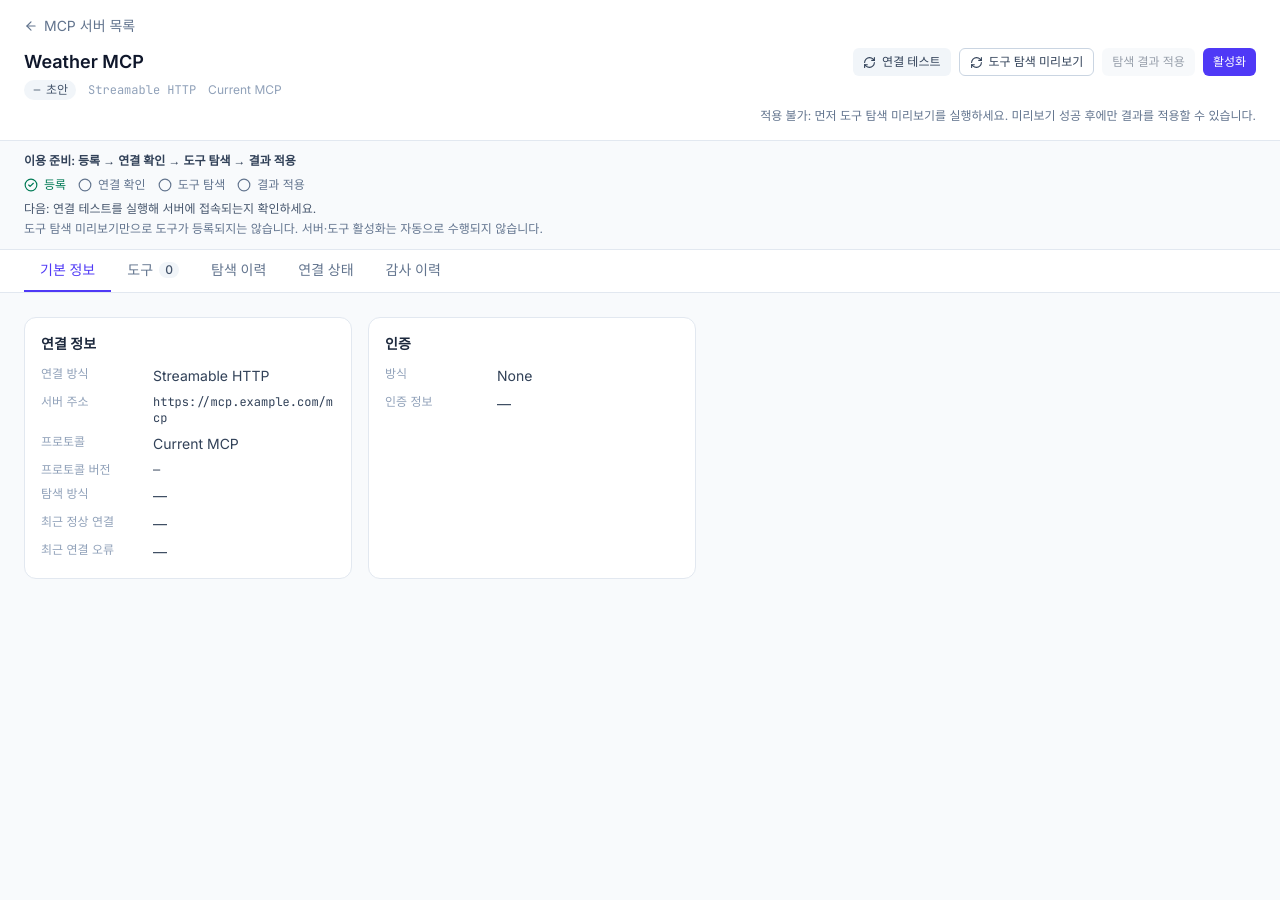
it: MCPServerDetail beginner setup and empty guidance › shows Korean next action after connection success without auto-apply
The image size is (1280, 900).
Check: the heading "Weather MCP" is shown, box top-left (24, 51), bottom-right (144, 72)
Click the button "연결 테스트".
click(902, 62)  # box top-left (853, 48), bottom-right (950, 76)
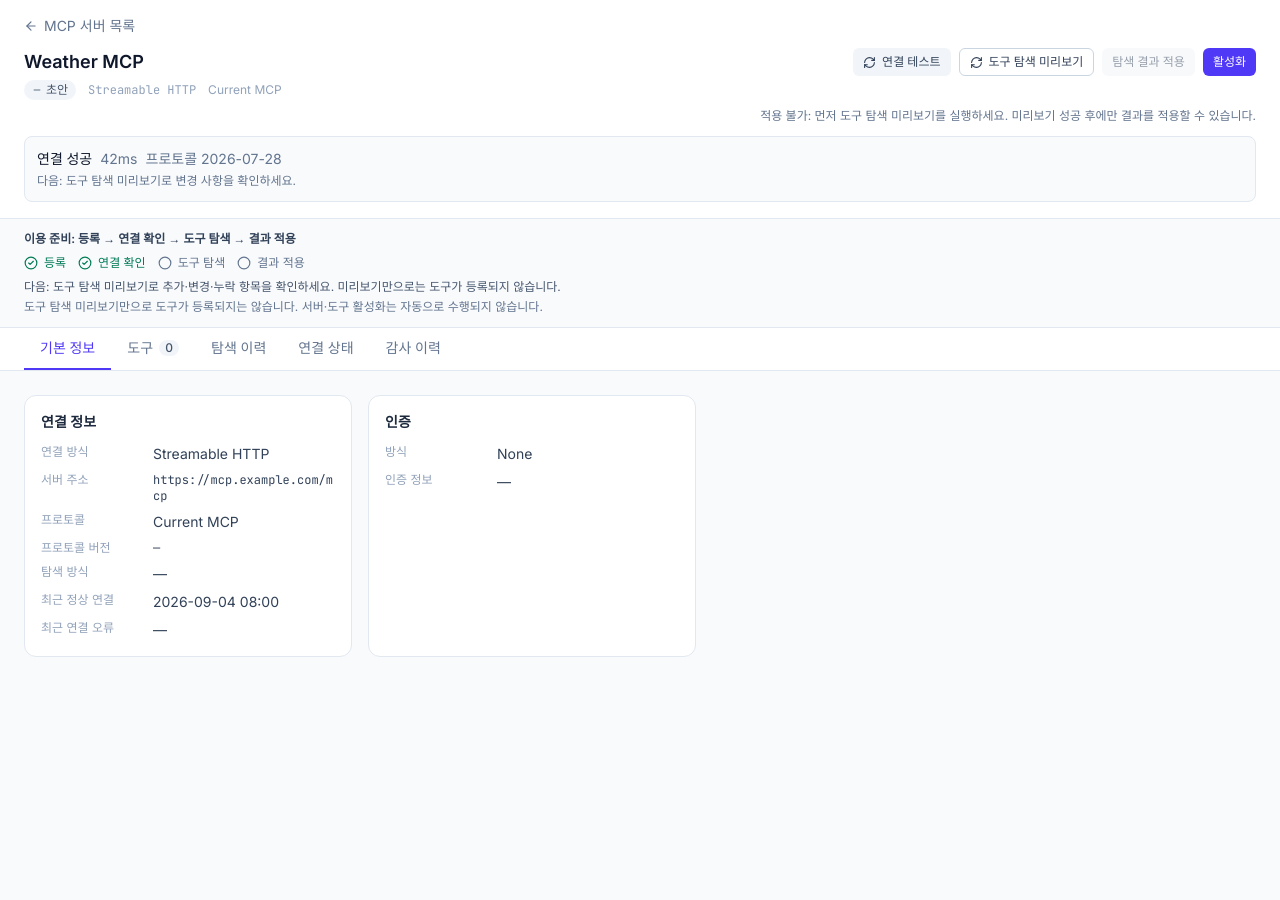
Check: the text "연결 성공" is shown, box top-left (37, 150), bottom-right (92, 167)
Click the button "도구 탐색 미리보기".
click(1026, 62)  # box top-left (958, 48), bottom-right (1094, 76)
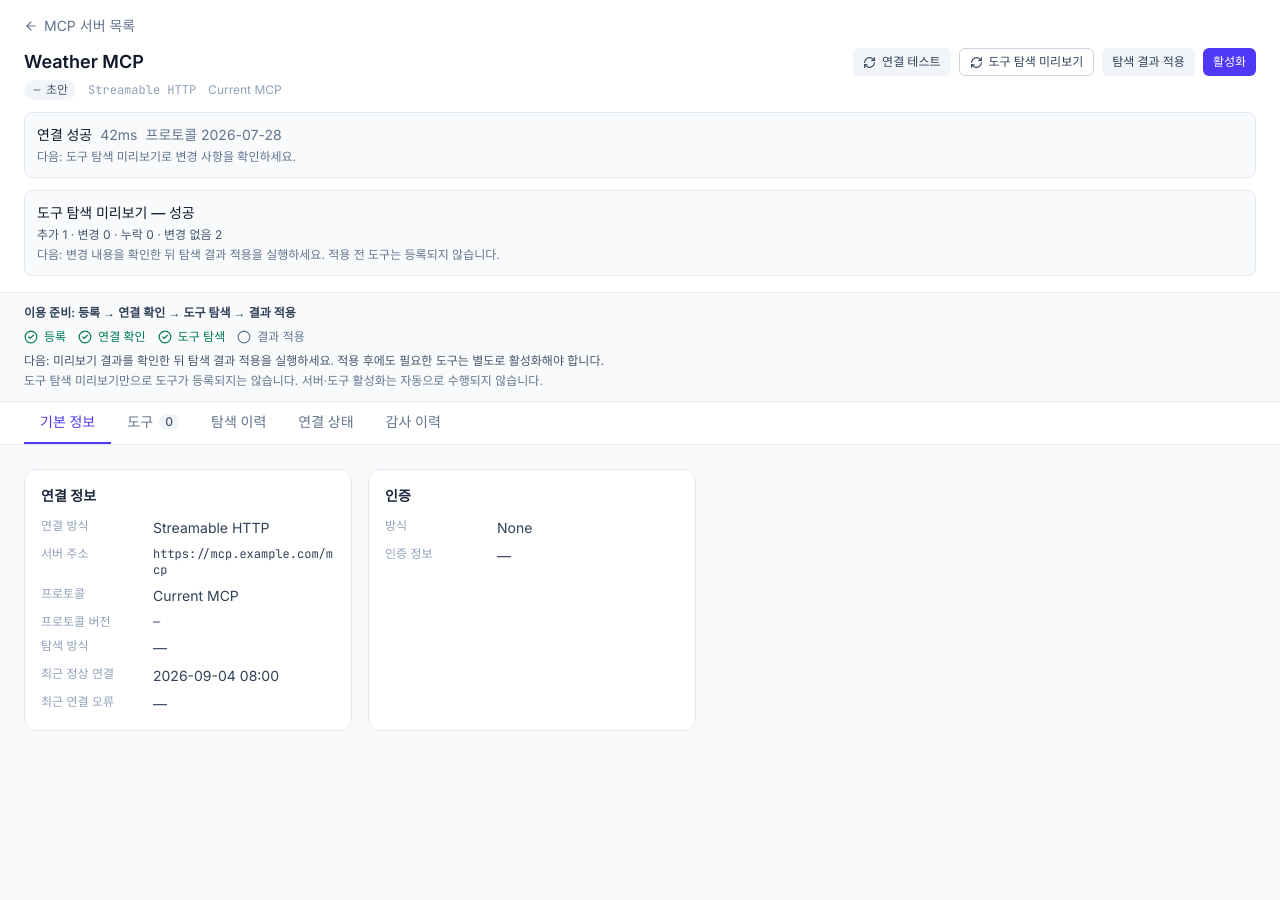
Check: the text "도구 탐색 미리보기 — 성공" is shown, box top-left (37, 204), bottom-right (195, 221)
Check: the text "다음: 변경 내용을 확인한 뒤 탐색 결과 적용을 실행하세요. 적용 전 도구는 등록되지 않습니다." is shown, box top-left (37, 247), bottom-right (500, 262)
